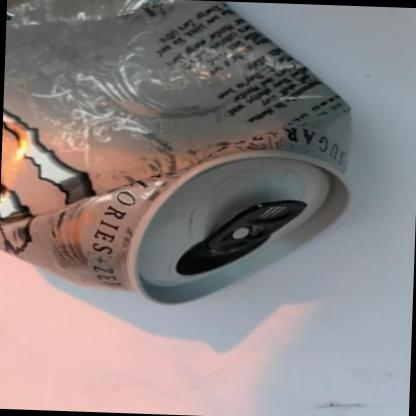Metal: (0, 0, 350, 302)
